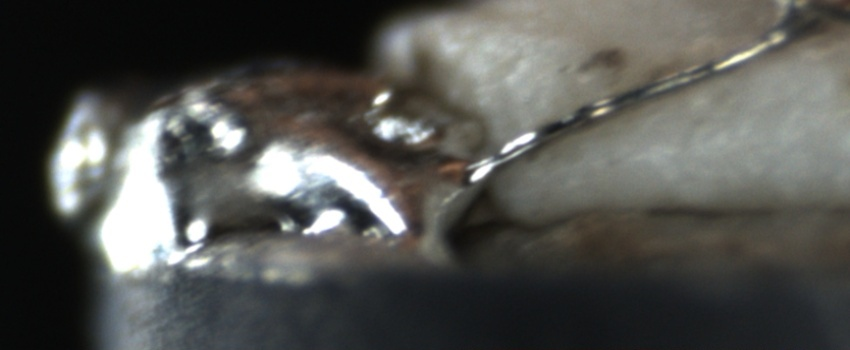DL: (608, 129, 808, 168)
TS: (497, 11, 816, 162)
